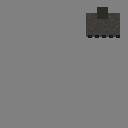armoured_vehicle: (86, 13, 120, 37)
